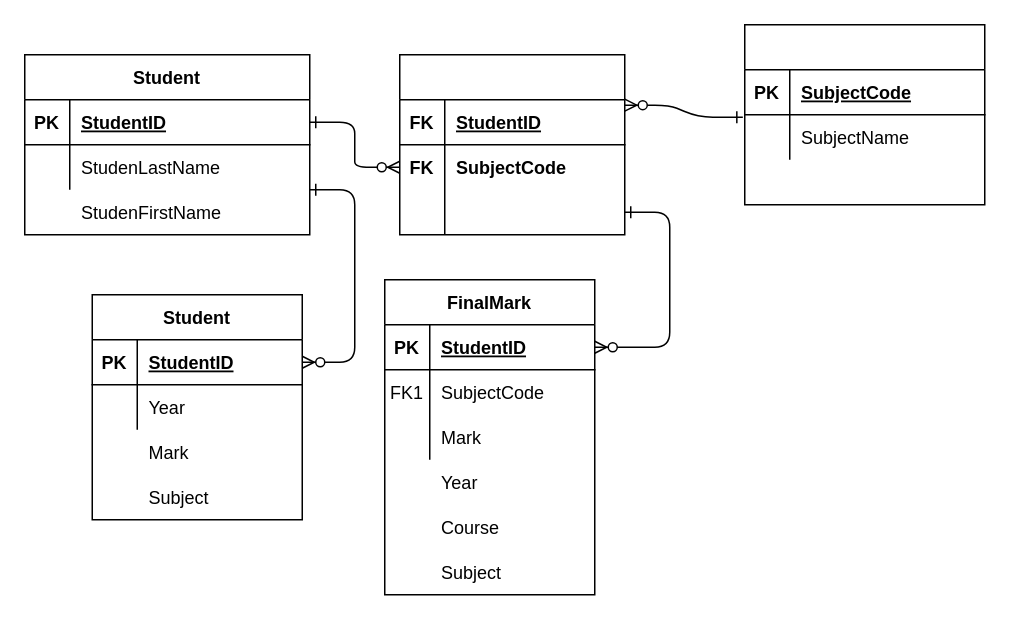
Image size: 1010x620. Some labels were removed from this diagram. The box of each missing label's shape, as (x1, y1, x2, y2) in pixels:
StudSubjects: (398, 53, 625, 235)
Subjects: (743, 23, 985, 205)
